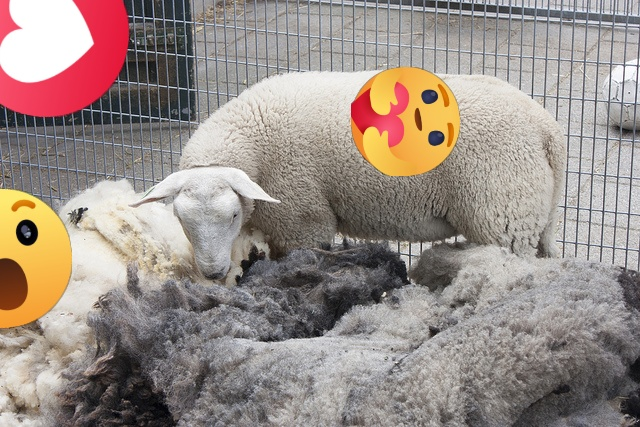care: (351, 67, 460, 176)
love: (0, 0, 129, 117)
wow: (0, 189, 72, 328)
